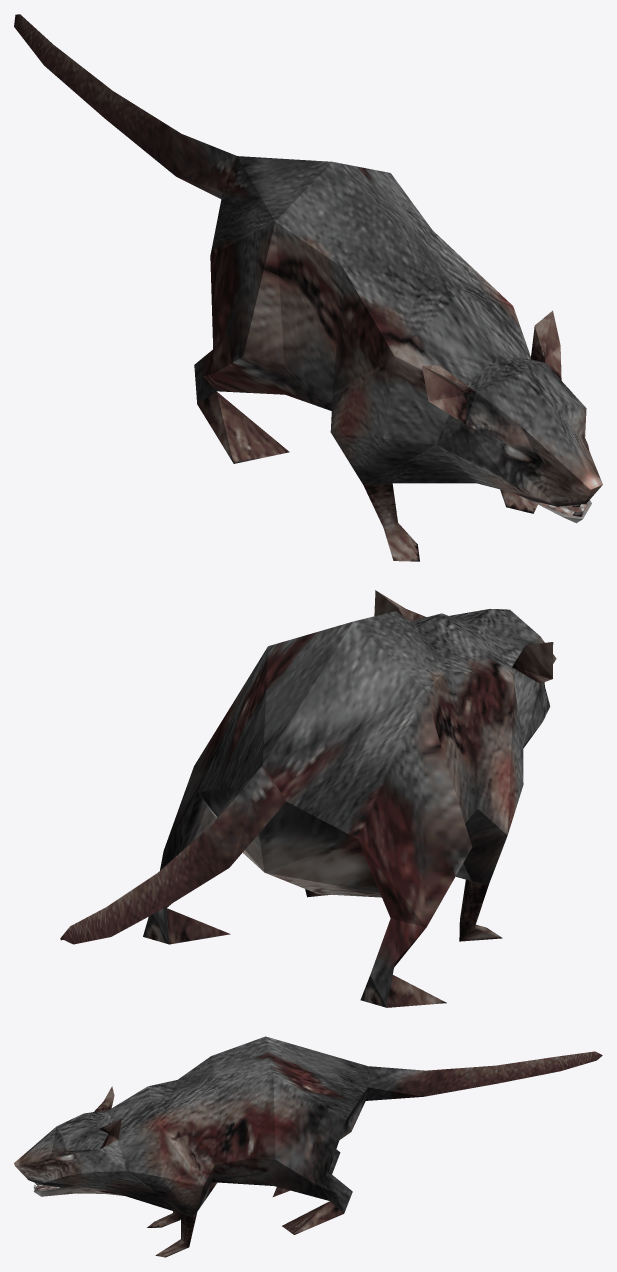
3 views of the same model, one above another, from view 1: azimuth 30°, elevation 25°; view 2: azimuth 150°, elevation 25°; view 3: azimuth 270°, elevation 25° (orthographic). The views are drawn at different scales.
Visible parts, largest first — view 1: None_None_None_None_Material_E04_00.NBD_000.png; view 2: None_None_None_None_Material_E04_00.NBD_000.png; view 3: None_None_None_None_Material_E04_00.NBD_000.png.
Part boxes in pixels (x1,y1,x2,y2): None_None_None_None_Material_E04_00.NBD_000.png: (14, 14, 602, 561); None_None_None_None_Material_E04_00.NBD_000.png: (60, 590, 556, 1007); None_None_None_None_Material_E04_00.NBD_000.png: (14, 1036, 602, 1257).
Size of the model in its own units: 108 by 145 by 395.
Materials: 1 (1 with a texture image).
